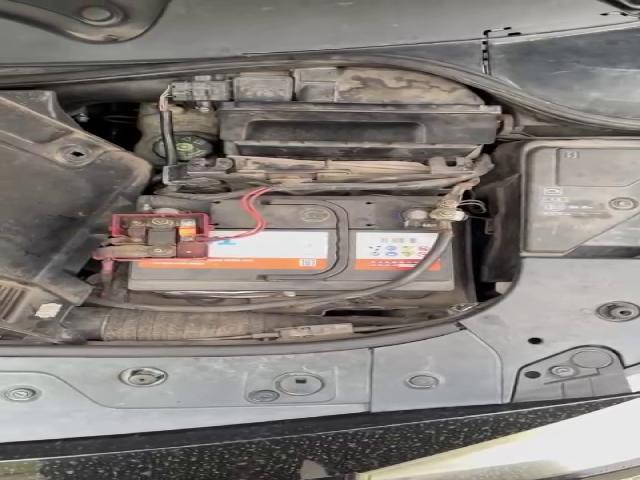accumulator: (99, 192, 452, 300)
fuse_box: (524, 145, 639, 254)
